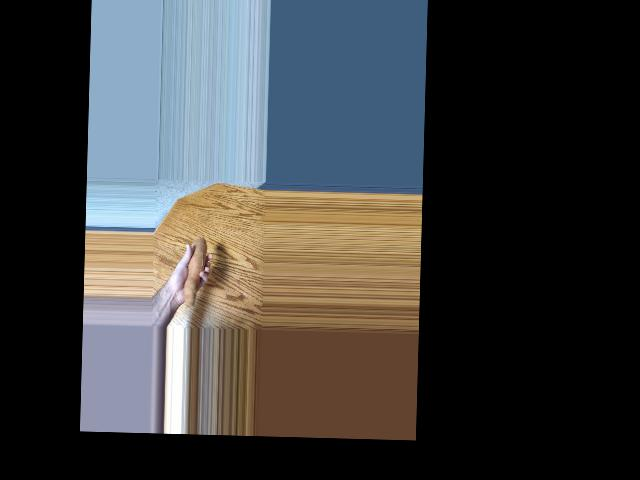sweet_potato: (177, 235, 208, 314)
